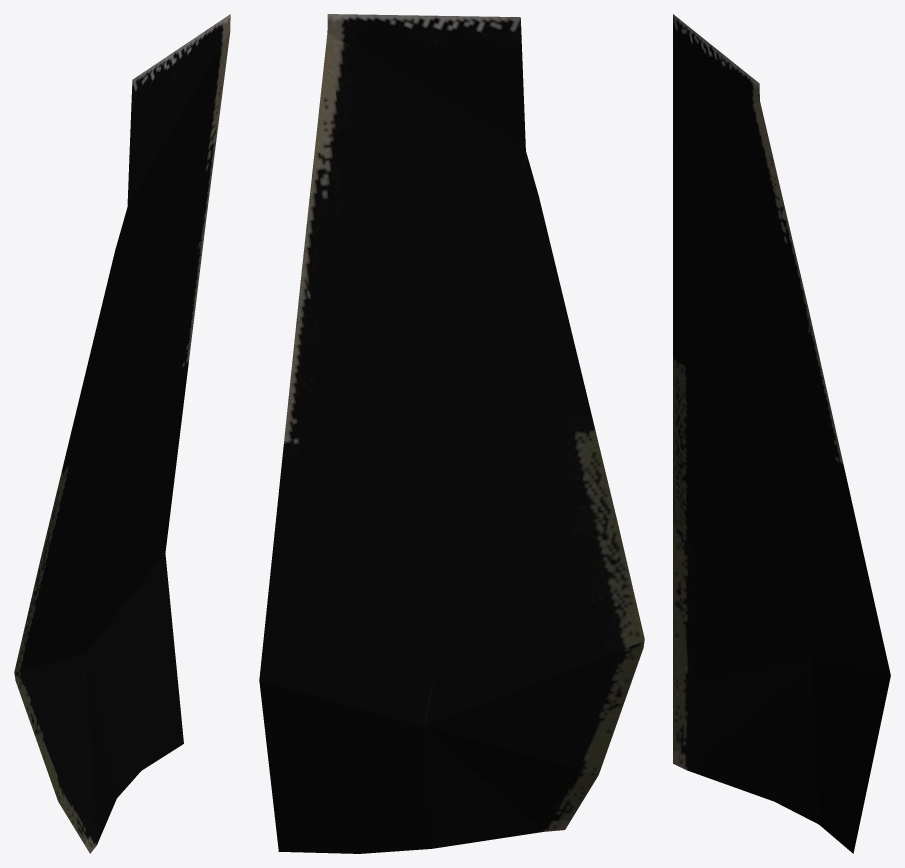
3 views of the same model, side by side, from view 1: azimuth 30°, elevation 25°; view 2: azimuth 150°, elevation 25°; view 3: azimuth 270°, elevation 25° (orthographic). The views are drawn at different scales.
Bounding box in the file's own units: 2.09 × 5.9 × 1.51.
Materials: 1 (1 with a texture image).
